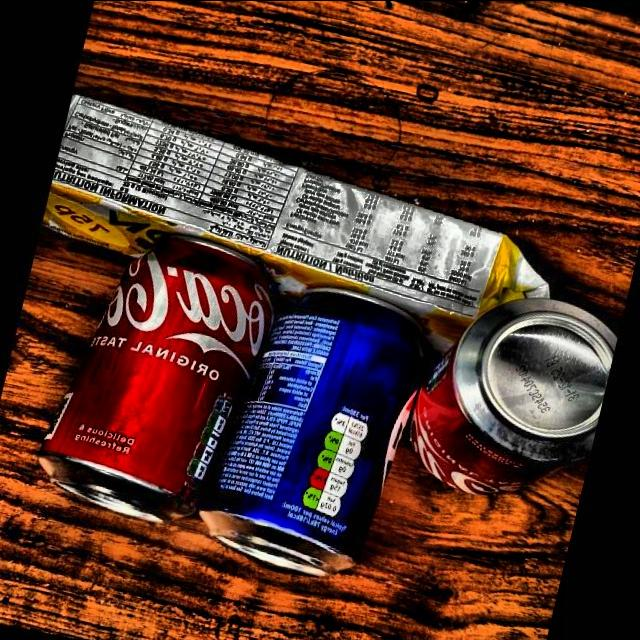coke-can: (61, 226, 250, 522), (422, 297, 622, 493)
lemon puff: (44, 92, 518, 332)
pepsi-can: (223, 288, 393, 574)
